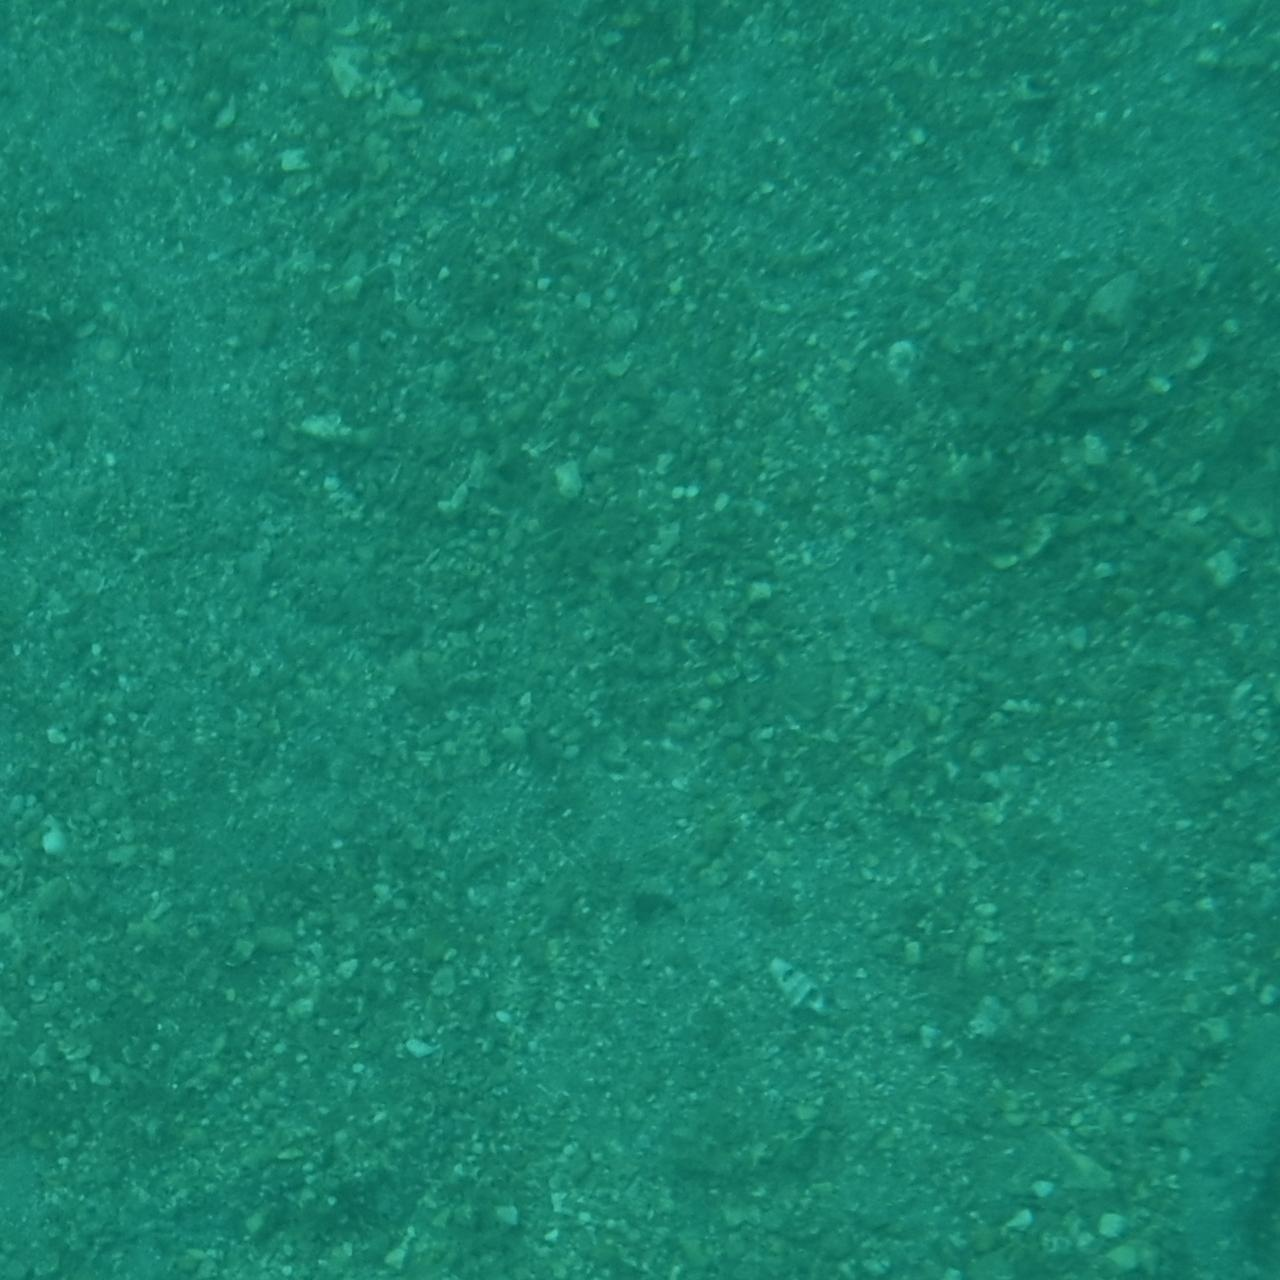Holothuria tubulosa: (447, 1110, 833, 1280), (0, 66, 219, 216), (0, 1112, 191, 1280), (1182, 978, 1280, 1280), (0, 105, 86, 425), (0, 256, 168, 409), (0, 0, 165, 149), (1177, 1099, 1280, 1280), (0, 1187, 191, 1280), (1210, 1110, 1280, 1280)
